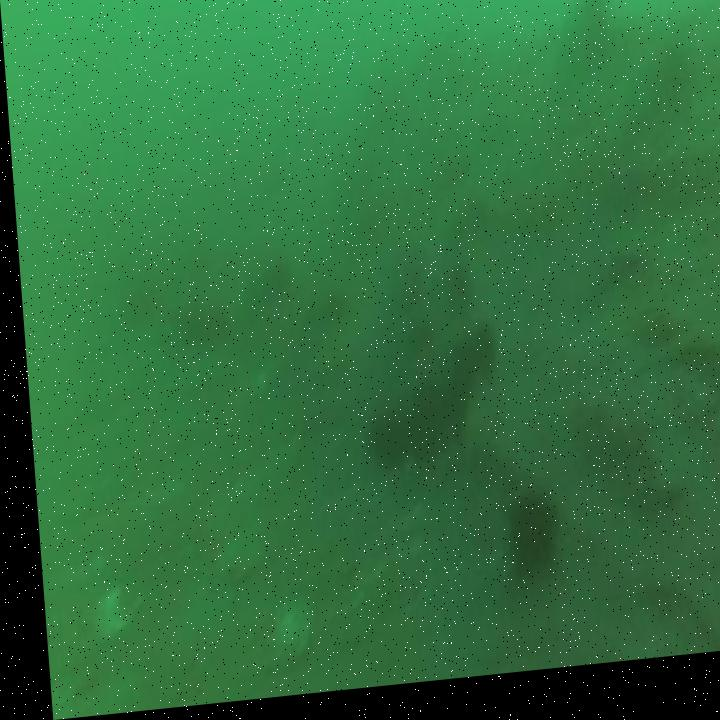echinus: (491, 484, 556, 606), (446, 330, 492, 399), (402, 395, 441, 472), (361, 411, 398, 478)
scallop: (257, 598, 308, 672)
